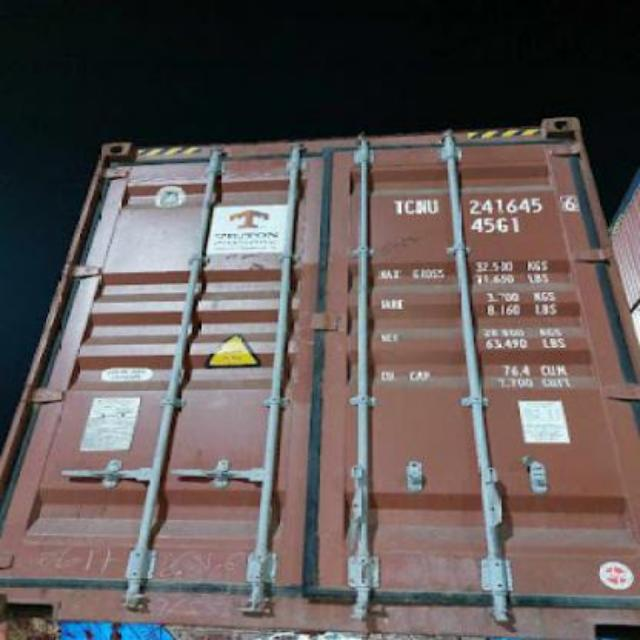1: (494, 194, 506, 216)
2: (466, 198, 478, 214)
4: (518, 193, 532, 214), (482, 197, 496, 213)
5: (528, 196, 544, 212)
6: (502, 193, 520, 214), (562, 196, 582, 212)
C: (404, 197, 414, 215)
N: (418, 197, 428, 220)
T: (394, 195, 406, 218)
U: (426, 199, 442, 217)
